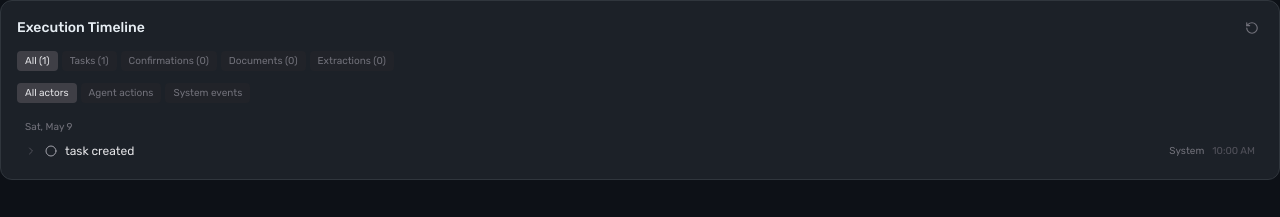
Test: ExecutionTimelinePanel Phase 5D › expands metadata on click
# Wait for events to render, then click to expand
What coordinates should you click on to do the following:
click the text "task created"
I would click on:
 (100, 151)
Its box is [65,144,134,158].
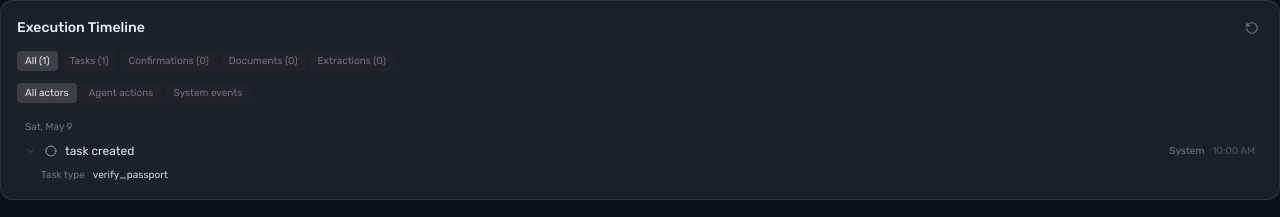
Check: the text "verify_passport" is shown, box [93,167,168,183]
